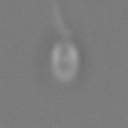normal: (44, 1, 74, 41)
